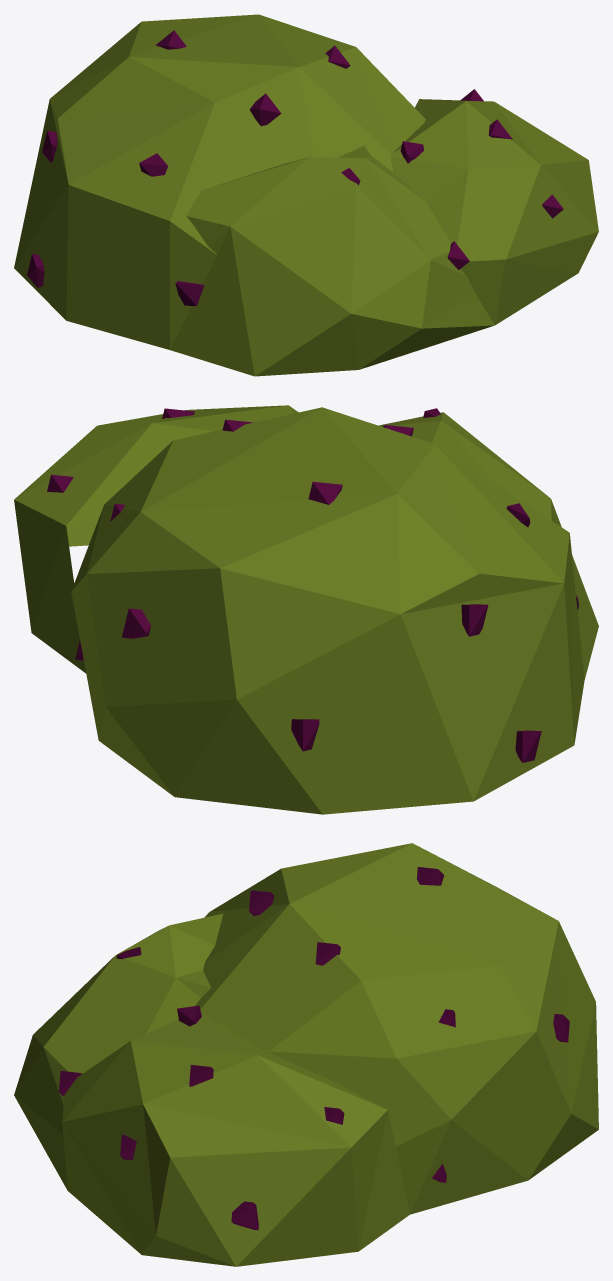
File: Berry Bush 5.glb
The picture shows the model from 3 angles, top to bottom: view 1: azimuth 30°, elevation 25°; view 2: azimuth 150°, elevation 25°; view 3: azimuth 270°, elevation 25°; orthographic projection. The views are drawn at different scales.
Parts seen in each view (by area): view 1: Berry Bush 5; view 2: Berry Bush 5; view 3: Berry Bush 5.
Part boxes in pixels (left/top/right/bottom): Berry Bush 5: left=14, top=14, right=598, bottom=376; Berry Bush 5: left=14, top=405, right=598, bottom=814; Berry Bush 5: left=14, top=843, right=598, bottom=1266.
Bounding box in the file's own units: 0.7238 × 0.3058 × 0.6794.
